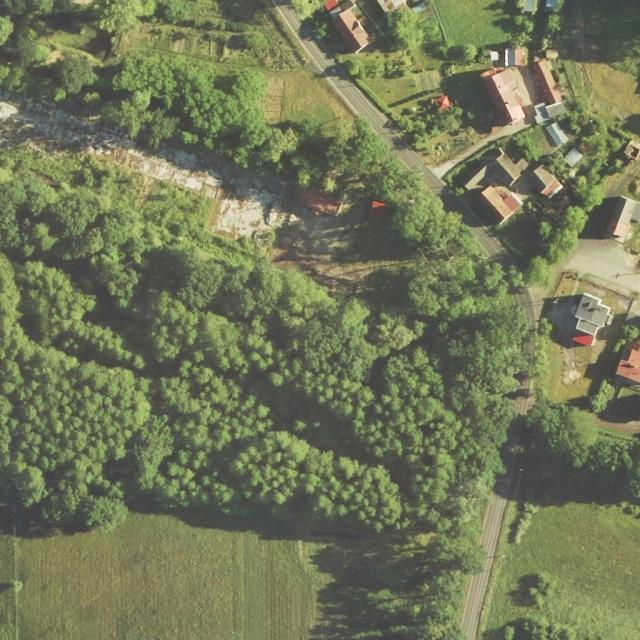agricultural_land: (0, 522, 350, 640)
building: (463, 135, 564, 237), (477, 38, 567, 134), (564, 292, 615, 351), (581, 194, 640, 240), (544, 120, 571, 149), (562, 147, 584, 169), (376, 1, 408, 13), (434, 93, 452, 112)
greenland: (489, 418, 640, 640)
metalled_road: (539, 235, 640, 300)
